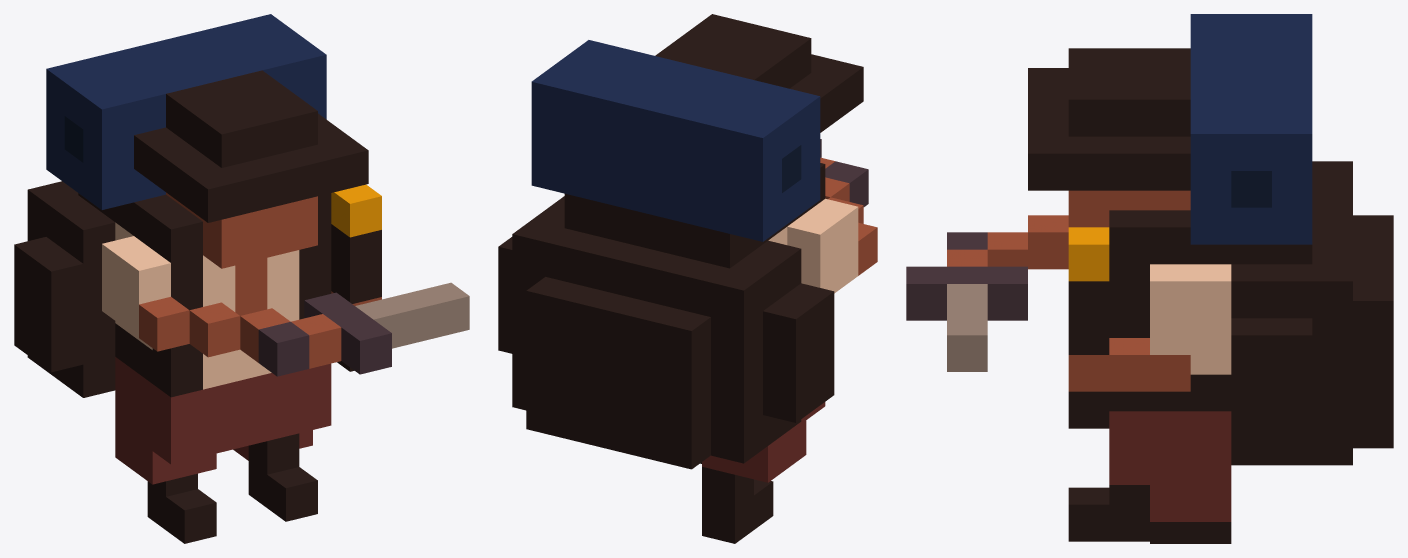
File: adventurer_action_0.obj
3 views of the same model, side by side, from view 1: azimuth 30°, elevation 25°; view 2: azimuth 150°, elevation 25°; view 3: azimuth 270°, elevation 25° (orthographic). The views are drawn at different scales.
Bounding box in the file's own units: 0.9 × 1.3 × 1.2.
1 material, 1 textured.
